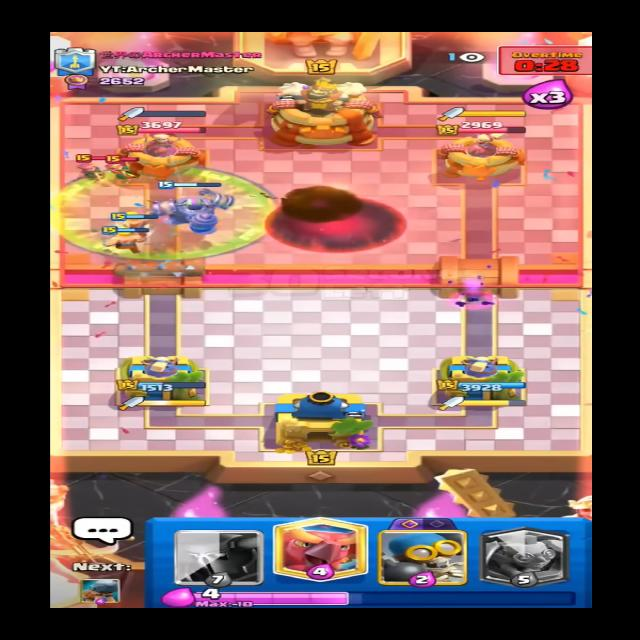archer: (71, 153, 106, 181), (106, 154, 136, 177)
